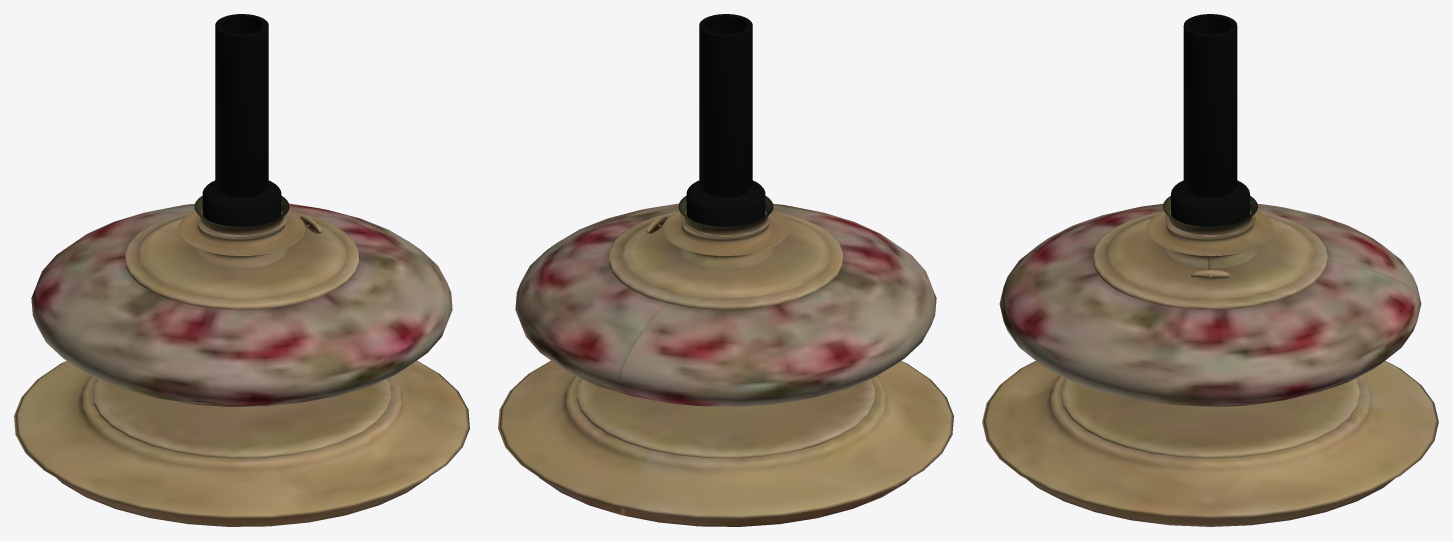
Rendered from ph-vintage-oil-lamp.glb.
3 renders of one model, left to right at view 1: azimuth 30°, elevation 25°; view 2: azimuth 150°, elevation 25°; view 3: azimuth 270°, elevation 25°, orthographic.
Parts seen in each view (by area): view 1: vintage_oil_lamp, vintage_oil_lamp_glass; view 2: vintage_oil_lamp, vintage_oil_lamp_glass; view 3: vintage_oil_lamp, vintage_oil_lamp_glass.
Part boxes in pixels (left/top/right/bottom): vintage_oil_lamp: left=14, top=203, right=469, bottom=526; vintage_oil_lamp_glass: left=194, top=14, right=289, bottom=234; vintage_oil_lamp: left=498, top=203, right=953, bottom=526; vintage_oil_lamp_glass: left=678, top=14, right=773, bottom=234; vintage_oil_lamp: left=982, top=203, right=1438, bottom=526; vintage_oil_lamp_glass: left=1163, top=14, right=1257, bottom=234.
Size of the model in its own units: 1 by 1 by 1.
3 materials, 3 textured.
